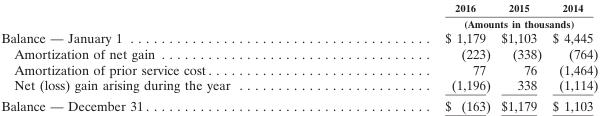table: (0, 1, 597, 113)
table column: (0, 1, 337, 113), (337, 1, 495, 113), (495, 1, 546, 113), (546, 1, 597, 113)
table column header: (0, 1, 597, 29)
table row: (0, 94, 597, 113), (0, 76, 597, 94), (0, 29, 597, 45), (0, 45, 597, 61), (0, 61, 597, 76), (0, 1, 597, 15), (0, 15, 597, 29)
table spanning cell: (337, 15, 597, 29)
